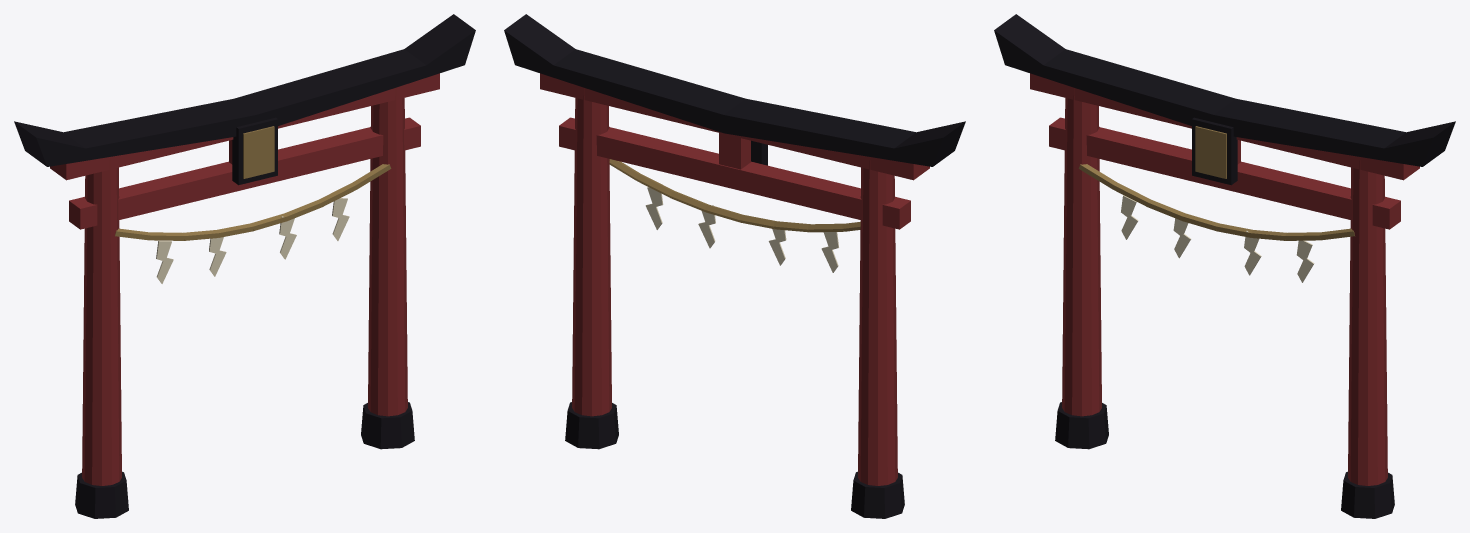
File: torii.glb
The picture shows the model from 3 angles, left to right: view 1: azimuth 30°, elevation 25°; view 2: azimuth 150°, elevation 25°; view 3: azimuth 330°, elevation 25°; orthographic projection.
Visible parts, largest first — view 1: Torii; view 2: Torii; view 3: Torii.
Part boxes in pixels (x1,y1,x2,y2): Torii: (14,14,475,518); Torii: (504,14,965,518); Torii: (994,14,1455,518).
Size of the model in its own units: 4 by 3.45 by 0.4445.
